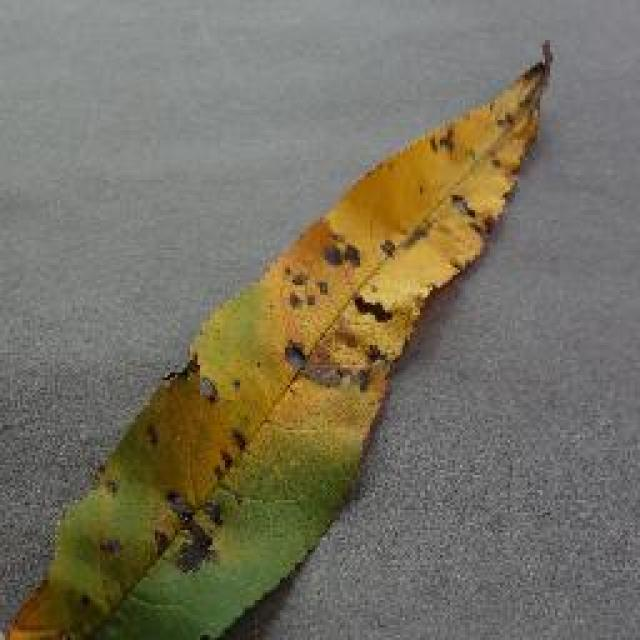Peach_Bacterial_Spot: (173, 207, 437, 413)
